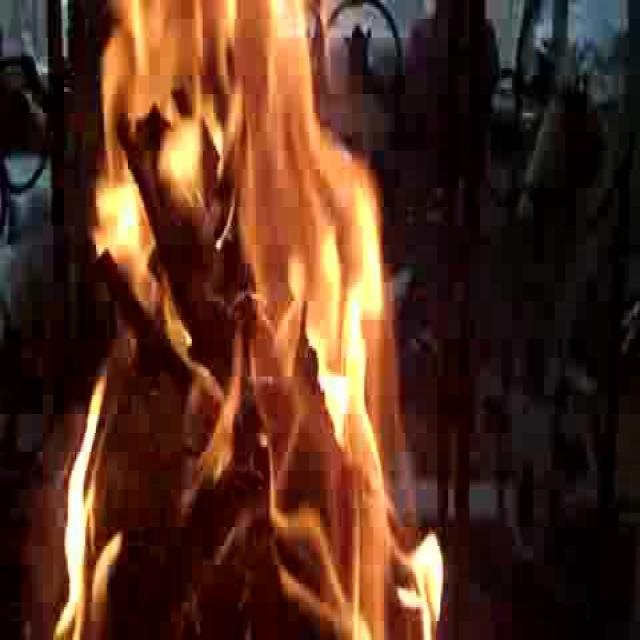Fire: (67, 4, 423, 628)
